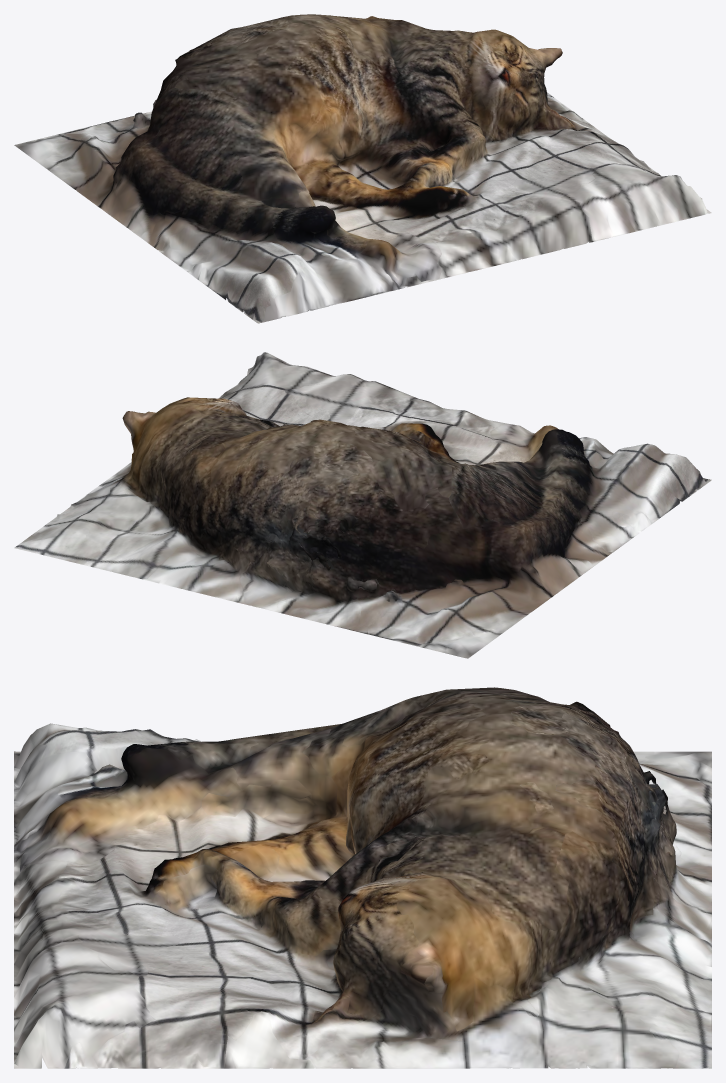
The model's file is Cat.fbx.
3 renders of one model, top to bottom at view 1: azimuth 30°, elevation 25°; view 2: azimuth 150°, elevation 25°; view 3: azimuth 270°, elevation 25°, orthographic. The views are drawn at different scales.
Parts seen in each view (by area): view 1: Cat; view 2: Cat; view 3: Cat.
Boxes of the visible parts, left/top/right/bottom form: Cat: left=14, top=14, right=711, bottom=323; Cat: left=14, top=352, right=711, bottom=658; Cat: left=14, top=687, right=711, bottom=1068.
Size of the model in its own units: 53.12 by 13.47 by 49.47.
1 material, 1 textured.
